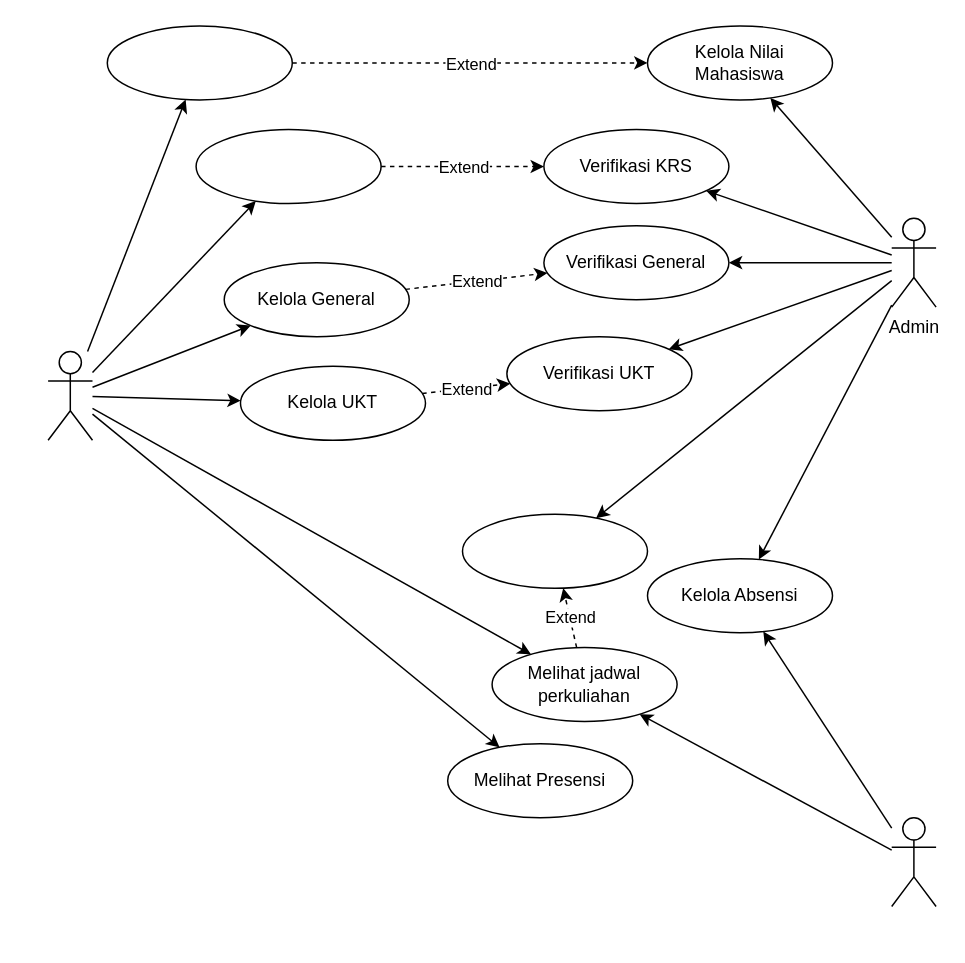
Image size: 965x963. Some labels were removed from this diagram. Each missing label, with the box of its shape:
Cetak KRS: (195, 128, 381, 204)
Dosen: (890, 816, 936, 906)
Kelola Jadwal: (461, 513, 648, 588)
Mahasiswa: (47, 350, 92, 440)
Melihat Nilai Mahasiswa: (106, 24, 292, 100)
